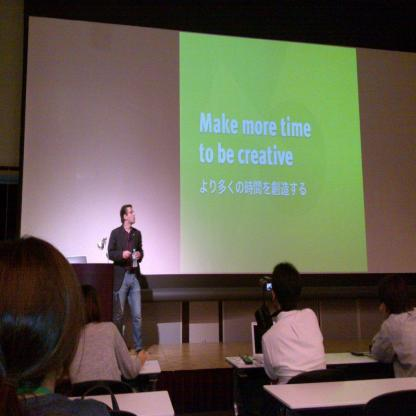board: (251, 320, 275, 364)
